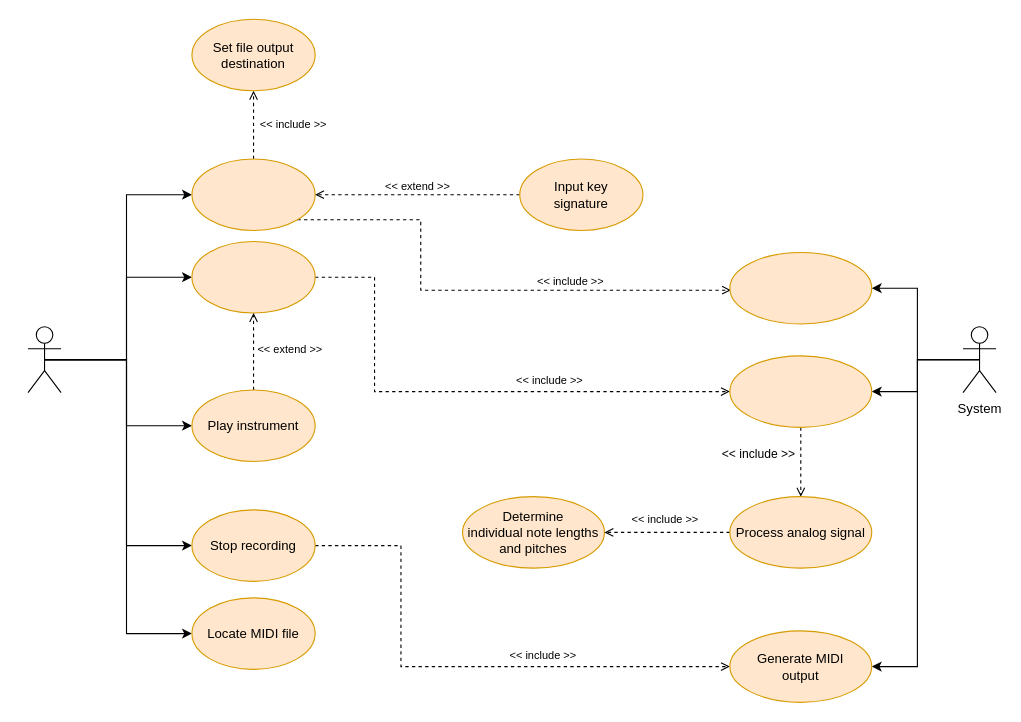
The diagram is 1021 pixels wide and 722 high, and some of its shapes have lost their labels. Each missing label, with the centre of its shape:
"Display tempo, time sig. etc. input screen" goes at point 800,287.
"Musician" goes at point 44,359.
"Sample analog signal" goes at point 800,391.
"Start recording" goes at point 253,276.
"Tempo and time signature input" goes at point 253,194.
